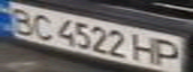2: (106, 27, 130, 60), (87, 24, 109, 56)
4: (51, 16, 78, 46)
5: (72, 20, 93, 51)
B: (3, 3, 39, 35)
C: (27, 11, 60, 40)
H: (130, 33, 160, 65)
P: (151, 37, 187, 70)
